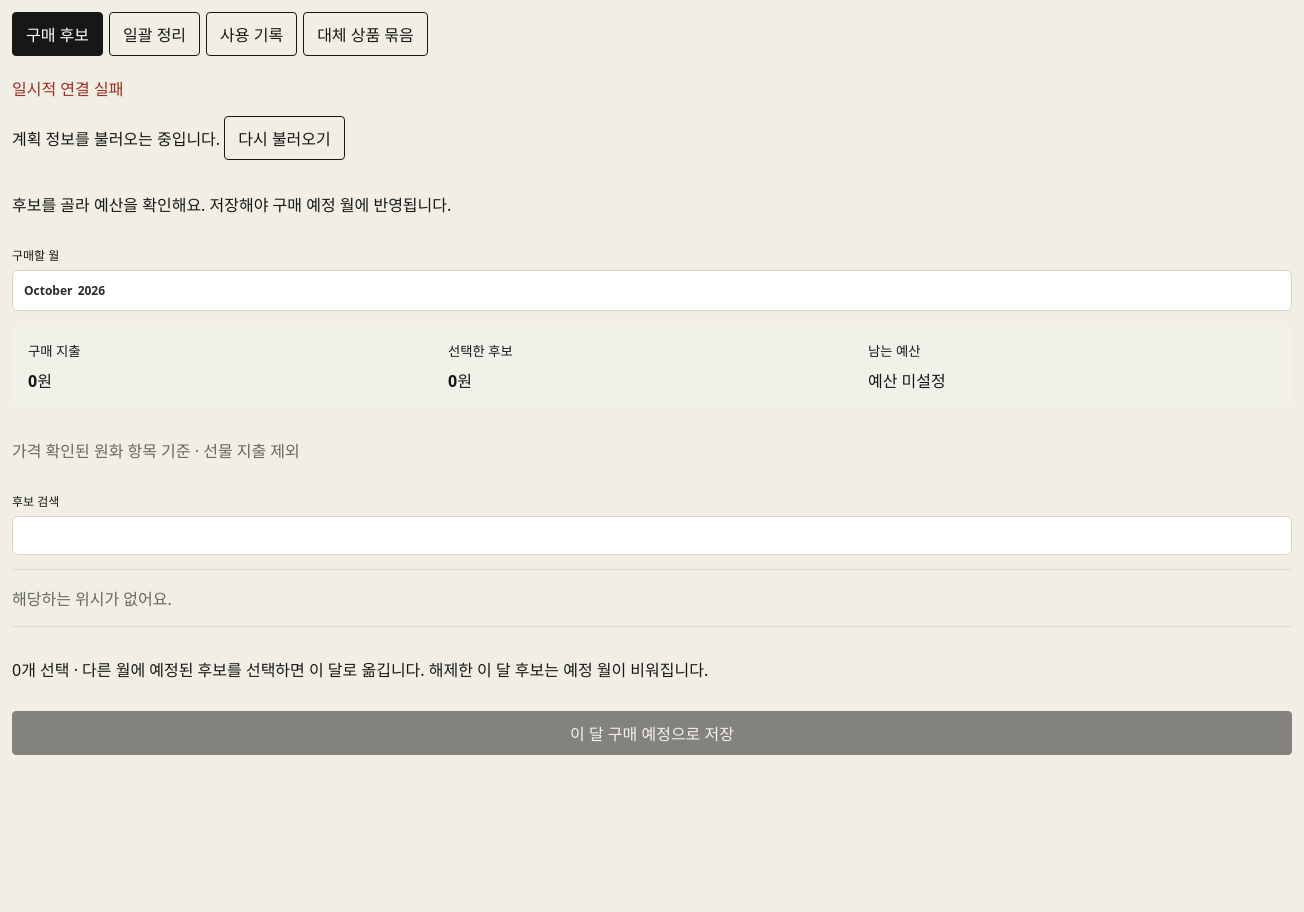
Scenario: 초기 조회 실패 뒤 탭을 바꿔도 재시도할 수 있고 성공하면 입력이 풀린다
Expected: the text "일시적 연결 실패" is shown, [12, 78, 123, 100]
What coordinates should you click on to do the following:
click the tab "일괄 정리"
I would click on:
 (154, 34)
Its box is [109, 12, 200, 56].
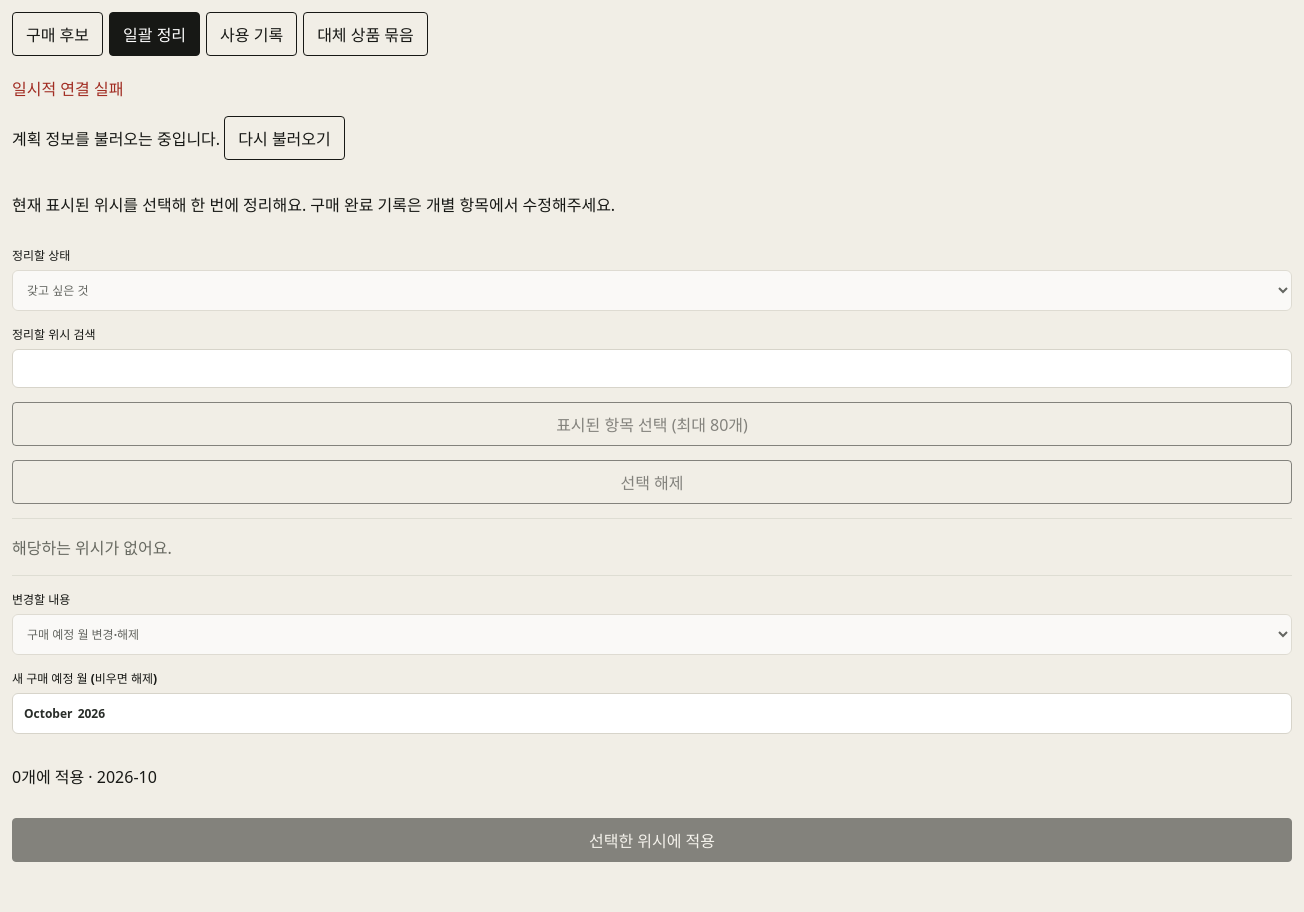
What coordinates should you click on to do the following:
click the button "다시 불러오기"
I would click on:
 (285, 138)
Its box is [224, 116, 345, 160].
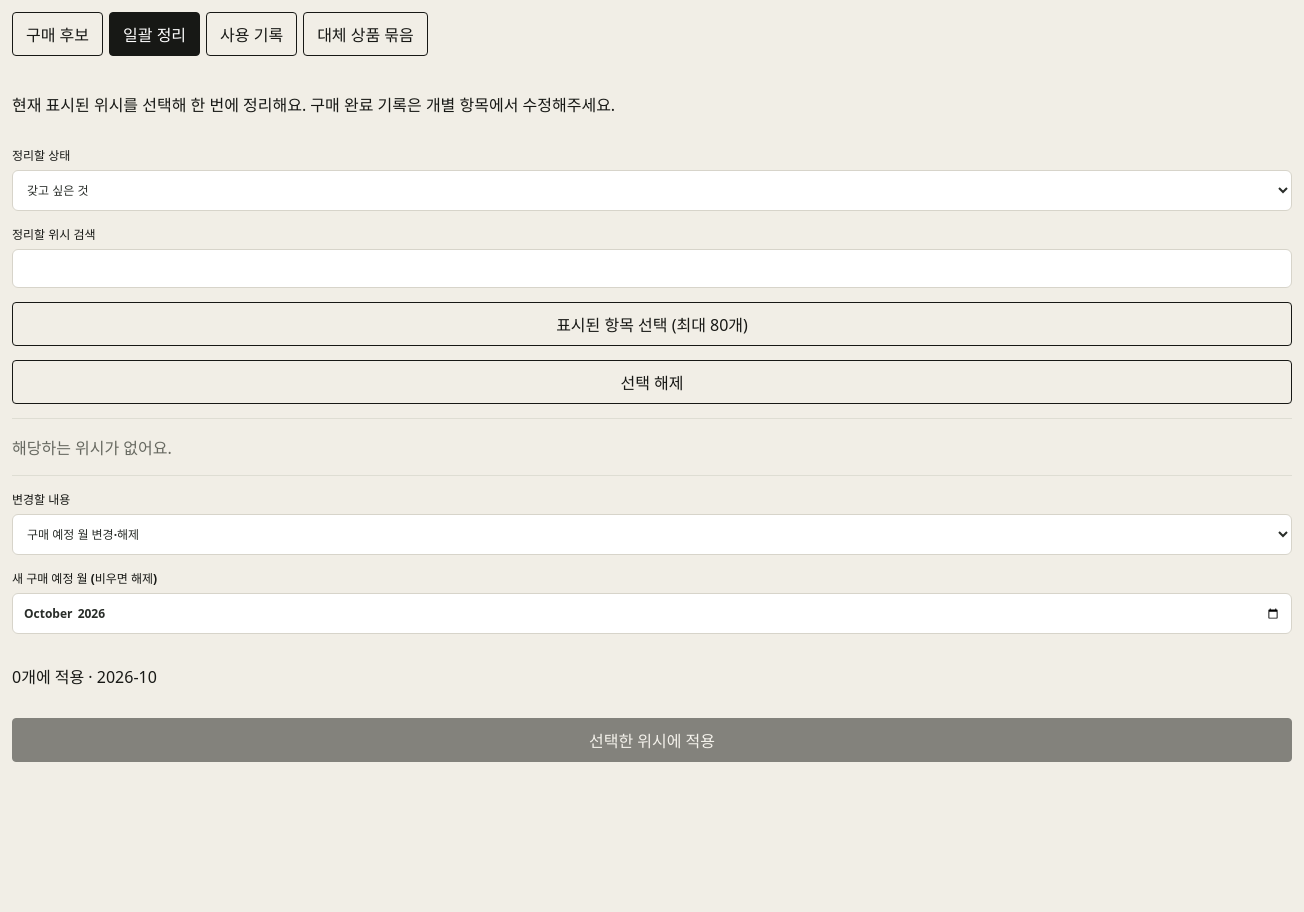
Expected: the text "일시적 연결 실패" is gone
